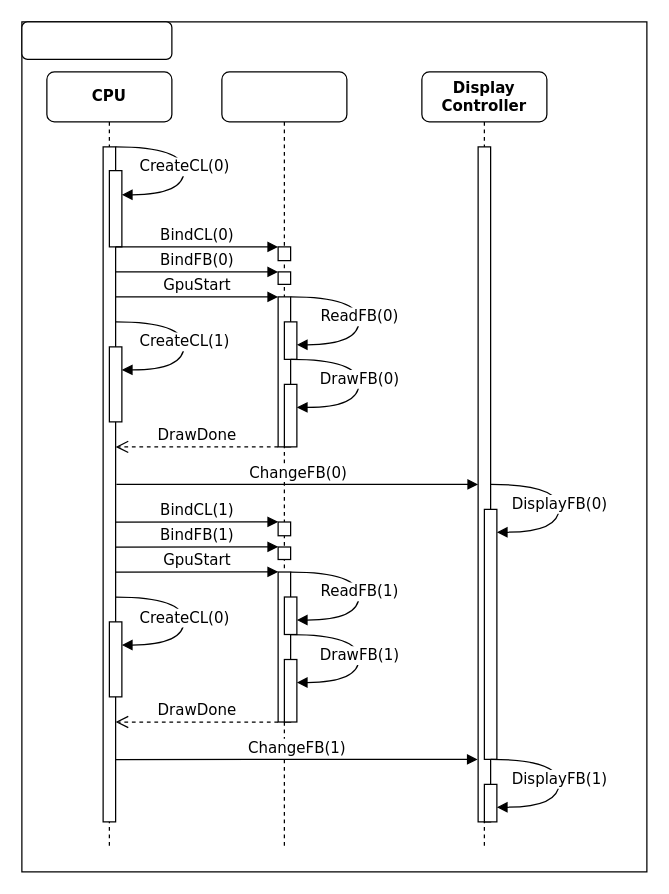
This 669x894 diagram has some shape labels left out. The box of each missing label's shape, as (x1, y1, x2, y2) in pixels:
GPU: (221, 71, 347, 847)
Sequence Diagram: (21, 21, 172, 59)
